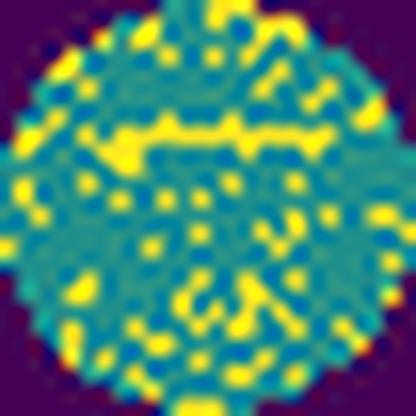Scratch: (72, 106, 343, 183)
